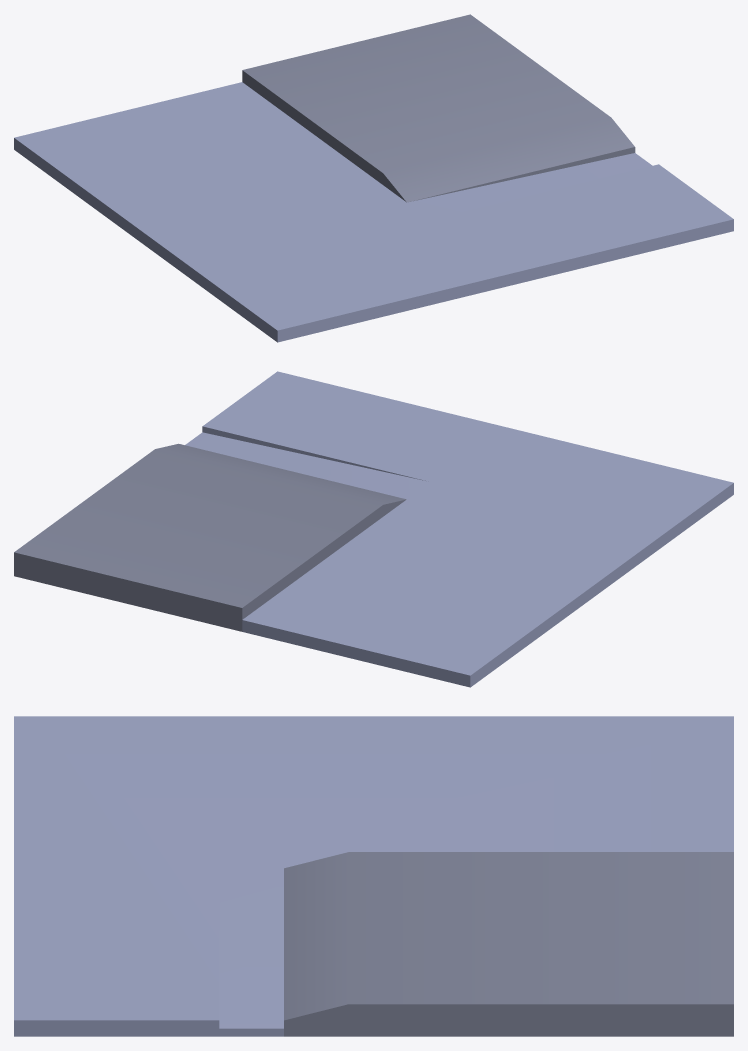
File: road-curb-end.glb
3 renders of one model, top to bottom at view 1: azimuth 30°, elevation 25°; view 2: azimuth 150°, elevation 25°; view 3: azimuth 270°, elevation 25°, orthographic. The views are drawn at different scales.
Parts seen in each view (by area): view 1: road-curb-end; view 2: road-curb-end; view 3: road-curb-end.
Boxes of the visible parts, box(x1,y1,x2,y2) form: road-curb-end: box(14, 14, 733, 342); road-curb-end: box(14, 371, 733, 687); road-curb-end: box(14, 716, 733, 1036).
Bounding box in the file's own units: 1 × 0.05 × 1.
1 material, 1 textured.
